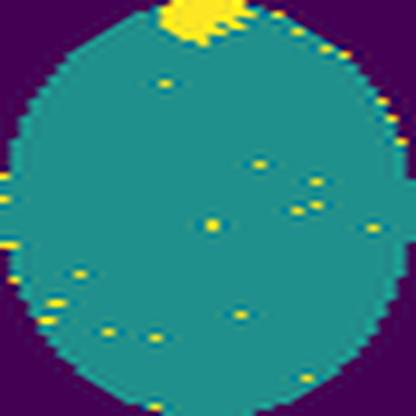Edge-Loc: (153, 0, 261, 51)
